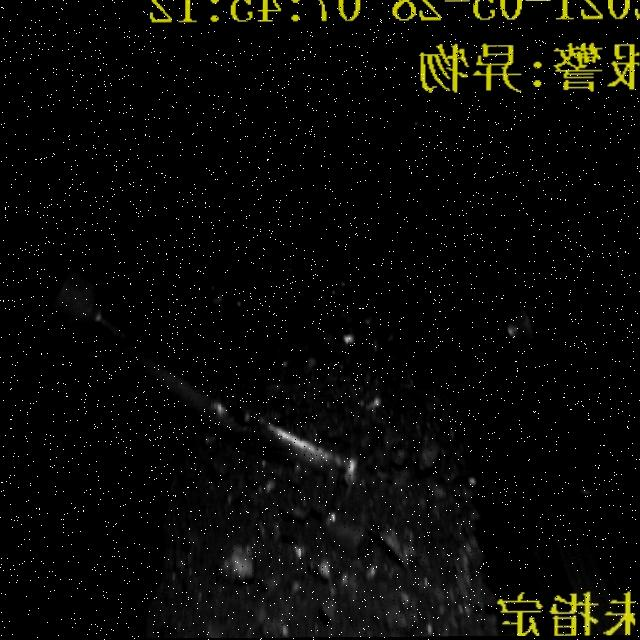bolt: (106, 332, 362, 490)
